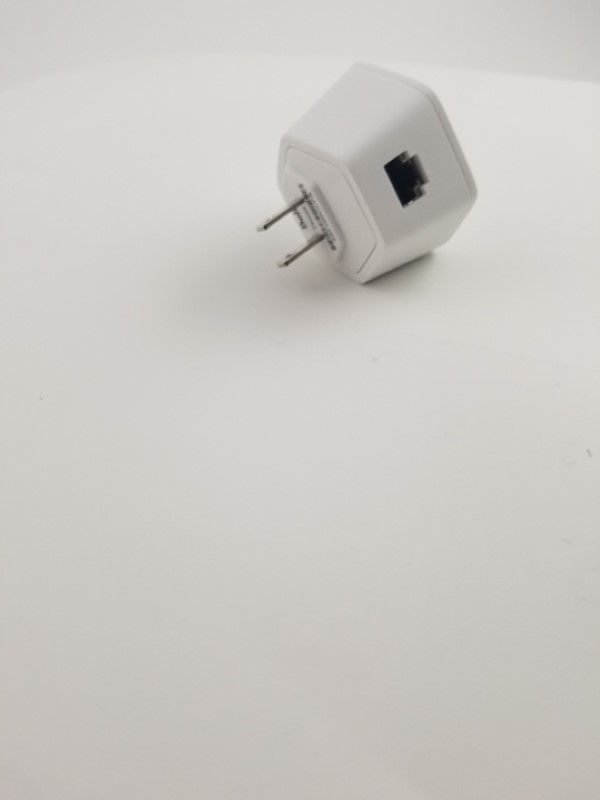pod: (251, 53, 487, 308)
